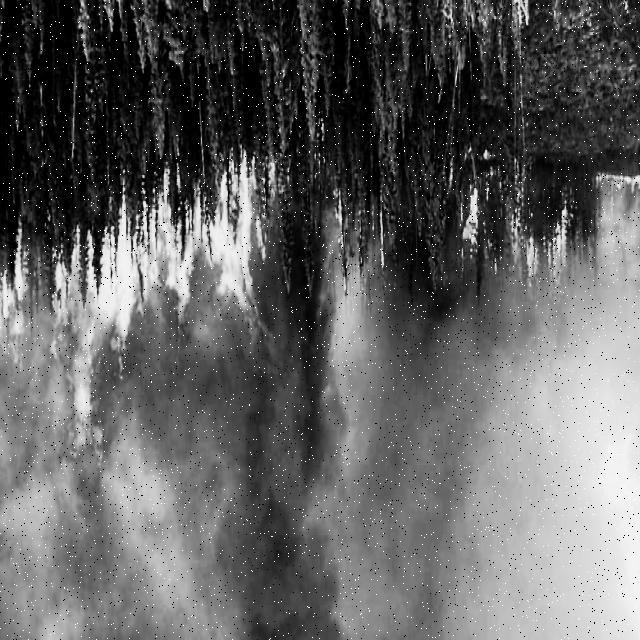api: (70, 241, 261, 331), (72, 311, 108, 447), (225, 164, 261, 230), (1, 252, 30, 326), (509, 224, 536, 286), (547, 209, 566, 285), (464, 188, 484, 255), (596, 170, 640, 197)
asap: (128, 337, 637, 640), (3, 451, 136, 640), (320, 273, 484, 359), (4, 334, 63, 434)
